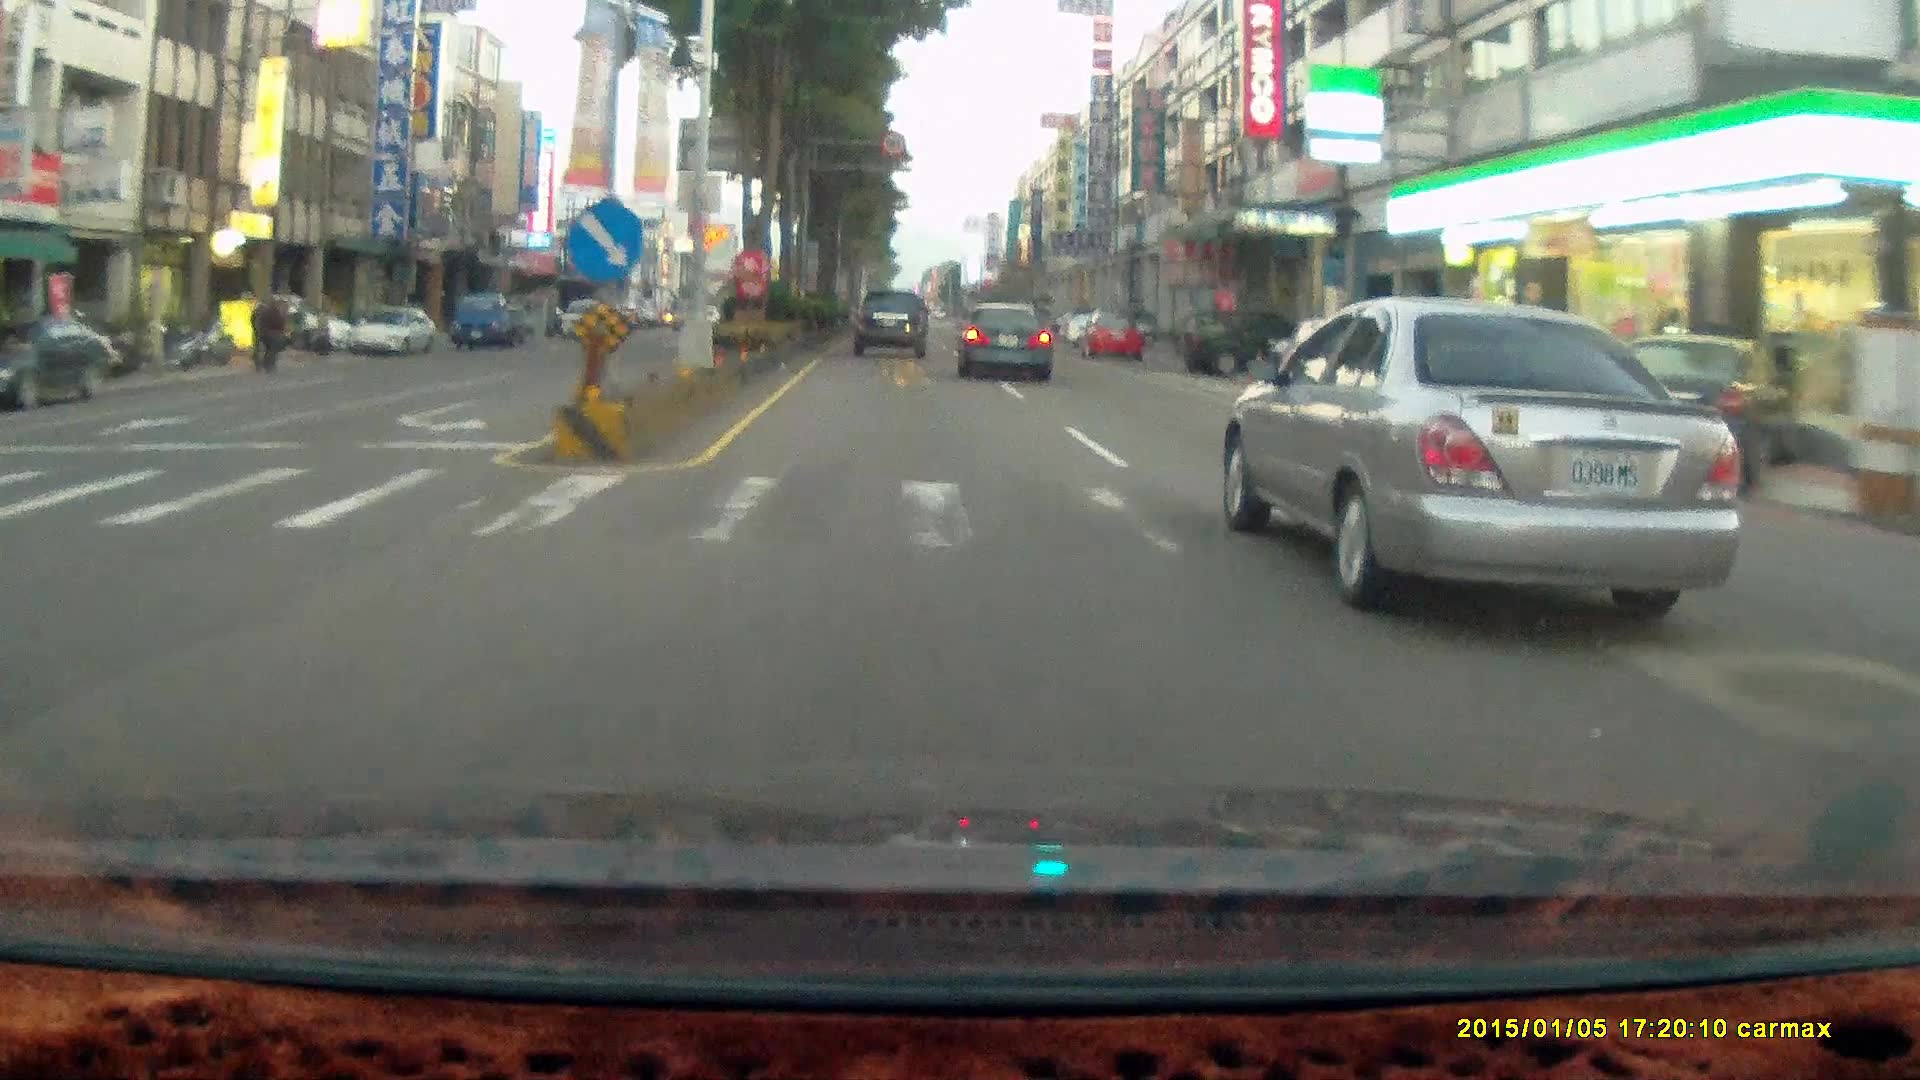pedestrian: (254, 291, 284, 369), (257, 294, 284, 368)
vehicle: (1227, 286, 1742, 619), (1626, 327, 1806, 503), (1605, 328, 1798, 487), (1288, 316, 1411, 413), (0, 315, 110, 409), (1181, 309, 1306, 377), (1178, 308, 1301, 375), (956, 300, 1054, 382), (957, 299, 1051, 379), (853, 290, 933, 360), (851, 285, 928, 355), (453, 294, 541, 354), (346, 304, 433, 356), (449, 289, 524, 346), (346, 306, 434, 354), (1075, 306, 1141, 356), (1083, 307, 1145, 360), (561, 297, 611, 339)
